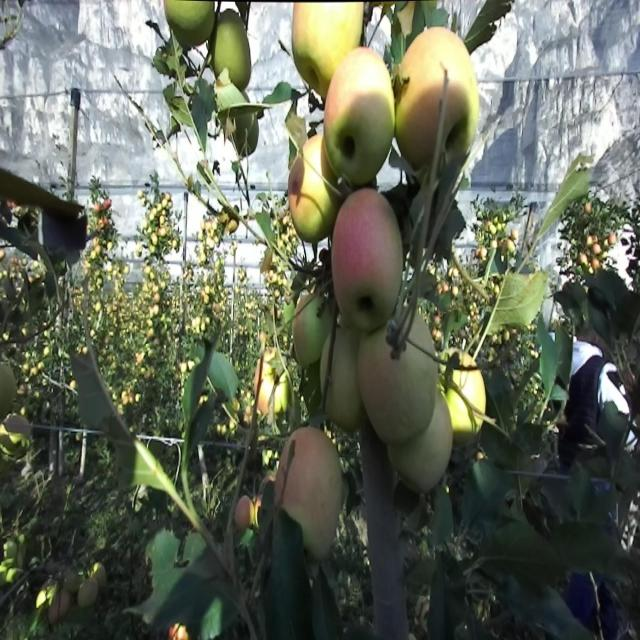apple: (396, 22, 480, 176), (328, 186, 406, 334), (324, 49, 400, 199), (360, 342, 444, 448), (280, 424, 347, 555), (292, 0, 364, 101), (288, 134, 348, 249), (388, 410, 451, 498), (292, 6, 348, 92), (392, 419, 451, 496), (396, 86, 442, 176), (356, 339, 400, 427), (444, 42, 480, 149), (444, 362, 488, 439), (328, 362, 366, 436), (216, 20, 253, 92), (164, 1, 216, 50), (292, 291, 324, 370), (256, 355, 291, 420), (256, 476, 278, 523), (236, 497, 258, 533), (392, 6, 416, 34), (296, 56, 315, 91), (80, 582, 99, 610), (92, 561, 107, 587), (60, 589, 72, 619)
